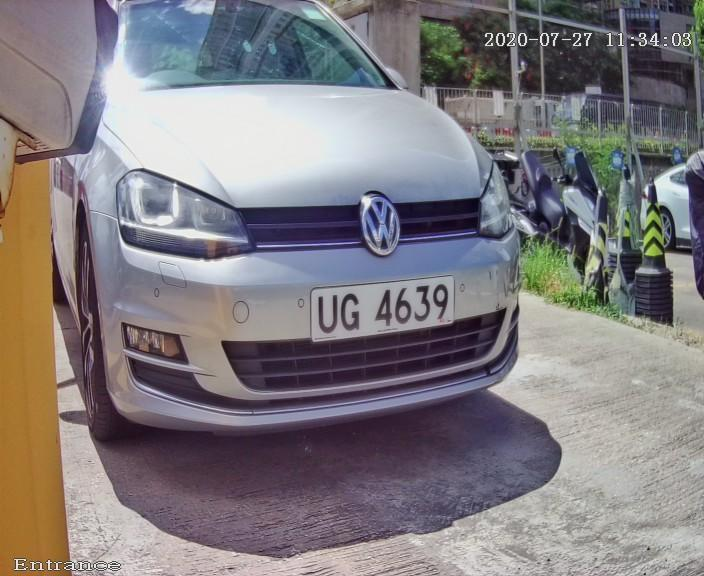privatecar: (51, 1, 576, 479)
